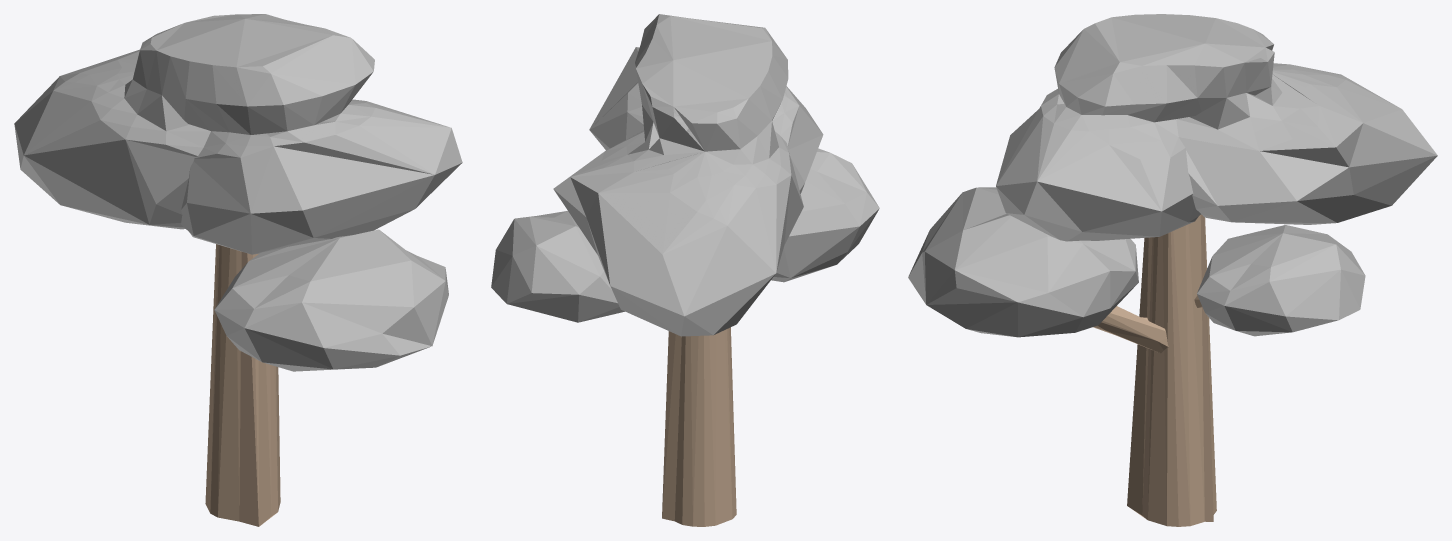
The model's file is Tree.fbx.
3 views of the same model, side by side, from view 1: azimuth 30°, elevation 25°; view 2: azimuth 150°, elevation 25°; view 3: azimuth 270°, elevation 25° (orthographic). The views are drawn at different scales.
Parts seen in each view (by area): view 1: leaves, trunk; view 2: leaves, trunk; view 3: leaves, trunk.
Part boxes in pixels (box(x1,y1,x2,y2)): leaves: box(14, 14, 462, 371); trunk: box(205, 244, 280, 526); leaves: box(491, 14, 879, 336); trunk: box(662, 327, 736, 526); leaves: box(908, 14, 1437, 337); trunk: box(1093, 214, 1216, 526).
Bounding box in the file's own units: 4.26 × 6.3 × 6.33.
